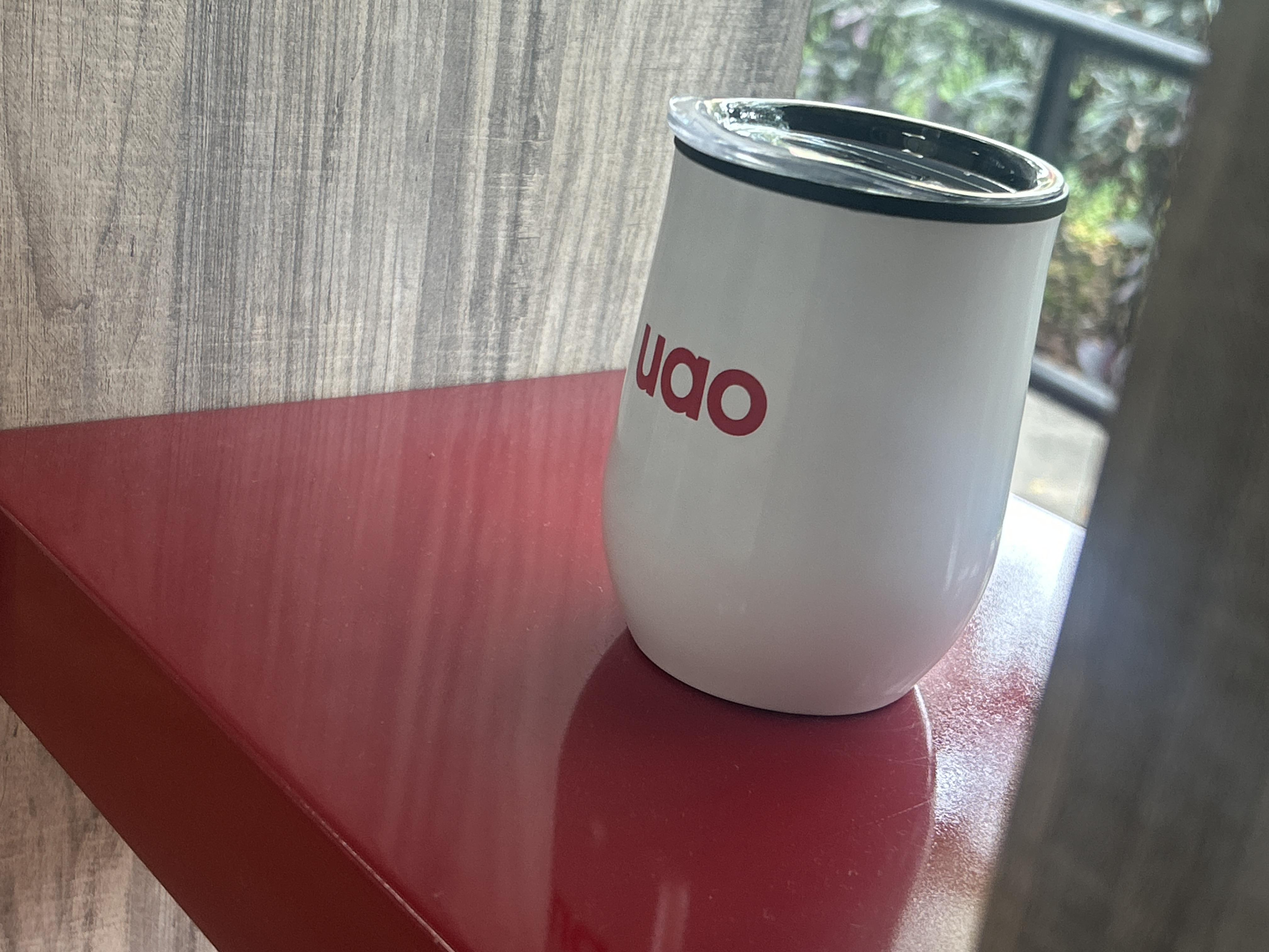vaso: (603, 96, 1067, 715)
